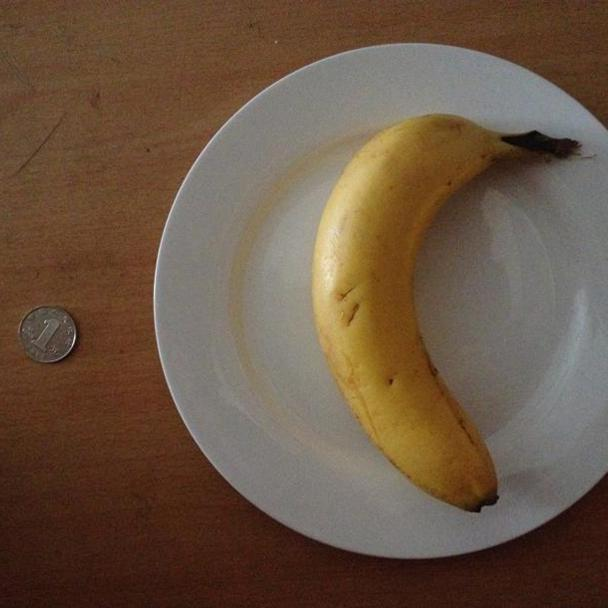banana: (309, 112, 544, 514)
